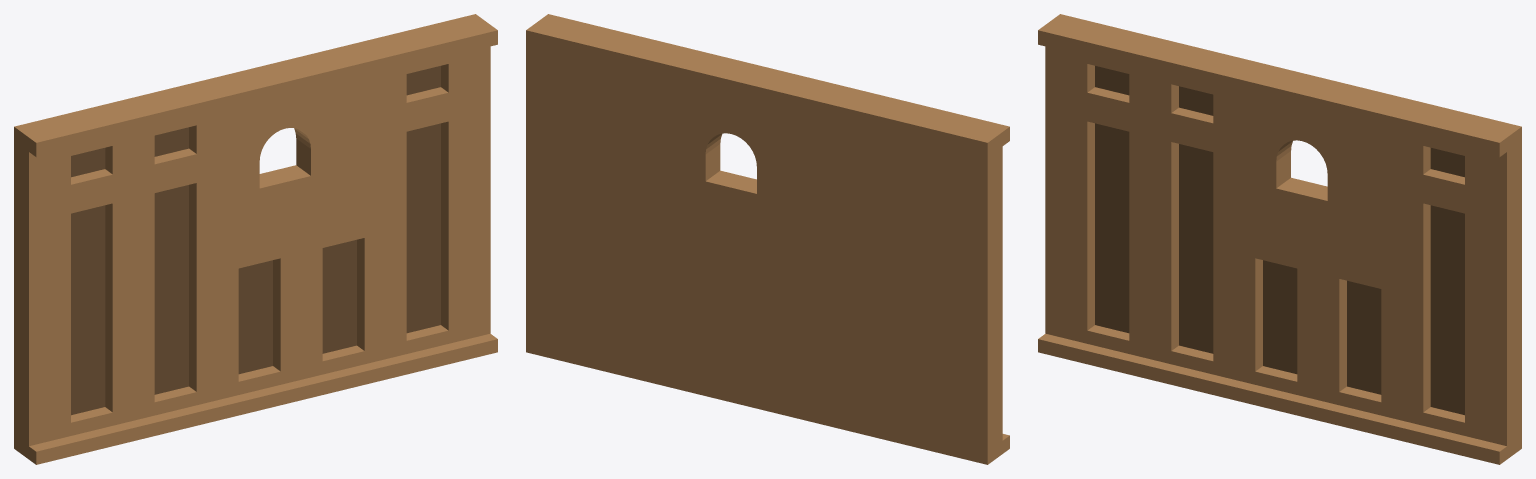
The model's file is F3WallSouth.fbx.
The picture shows the model from 3 angles, left to right: view 1: azimuth 30°, elevation 25°; view 2: azimuth 150°, elevation 25°; view 3: azimuth 330°, elevation 25°; orthographic projection.
Visible parts, largest first — view 1: Wall.008; view 2: Wall.008; view 3: Wall.008.
Part boxes in pixels (x1=…): Wall.008: x1=14, y1=14, x2=497, y2=464; Wall.008: x1=526, y1=14, x2=1009, y2=464; Wall.008: x1=1038, y1=14, x2=1521, y2=464.
Size of the model in its own units: 90 by 60 by 7.5.
